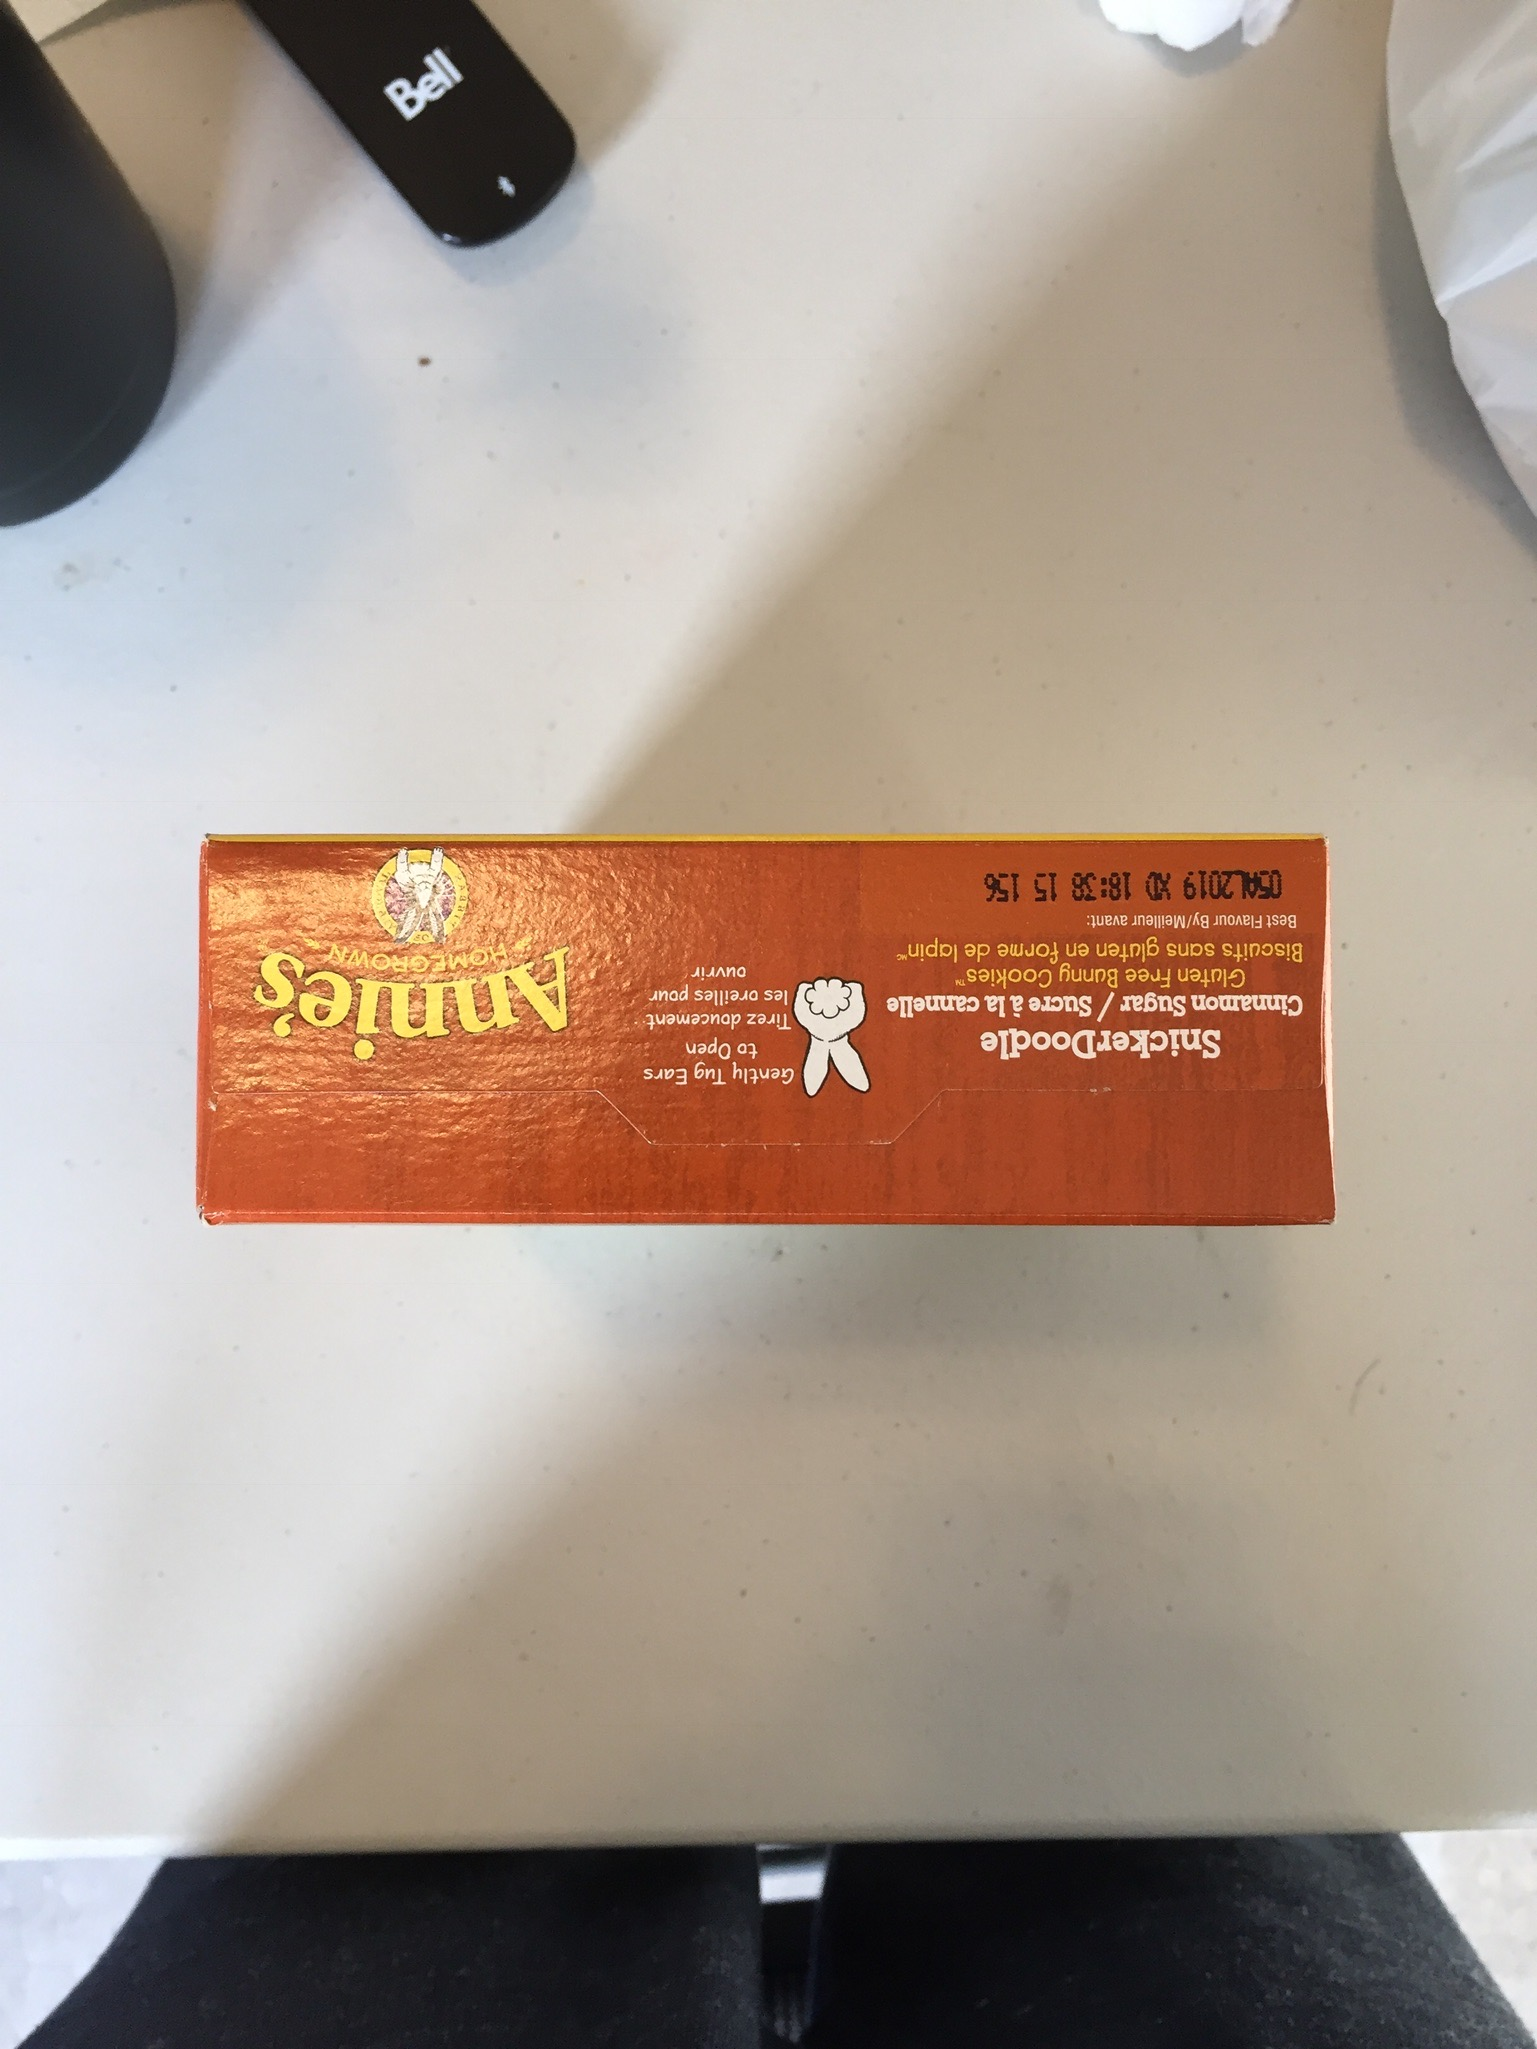annies_snickerdoodles_cinnamon_sugar: (208, 841, 1322, 1226)
